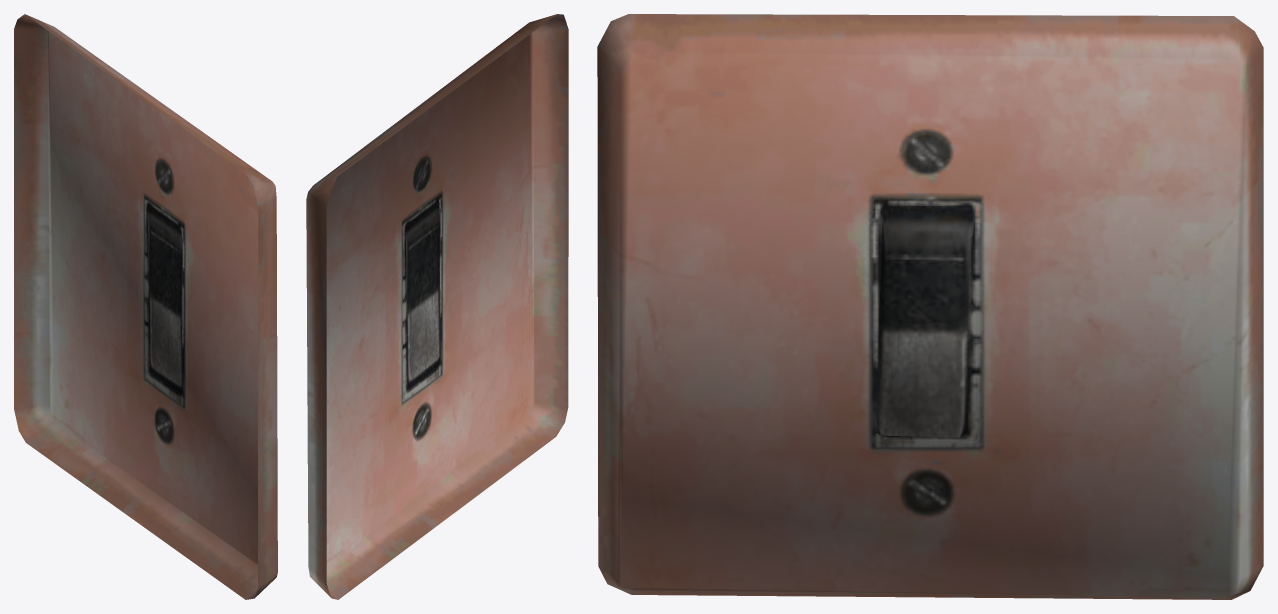
The model's file is Electrical_Switch_07.fbx.
3 renders of one model, left to right at view 1: azimuth 30°, elevation 25°; view 2: azimuth 150°, elevation 25°; view 3: azimuth 270°, elevation 25°, orthographic. The views are drawn at different scales.
Visible parts, largest first — view 1: Electrical_Switch_07; view 2: Electrical_Switch_07; view 3: Electrical_Switch_07.
Boxes of the visible parts, x1,y1,x2,y2 form: Electrical_Switch_07: (14, 14, 277, 599); Electrical_Switch_07: (306, 14, 568, 599); Electrical_Switch_07: (597, 14, 1263, 599).
Size of the model in its own units: 1.63 by 12.68 by 12.31.
Materials: 1 (1 with a texture image).
